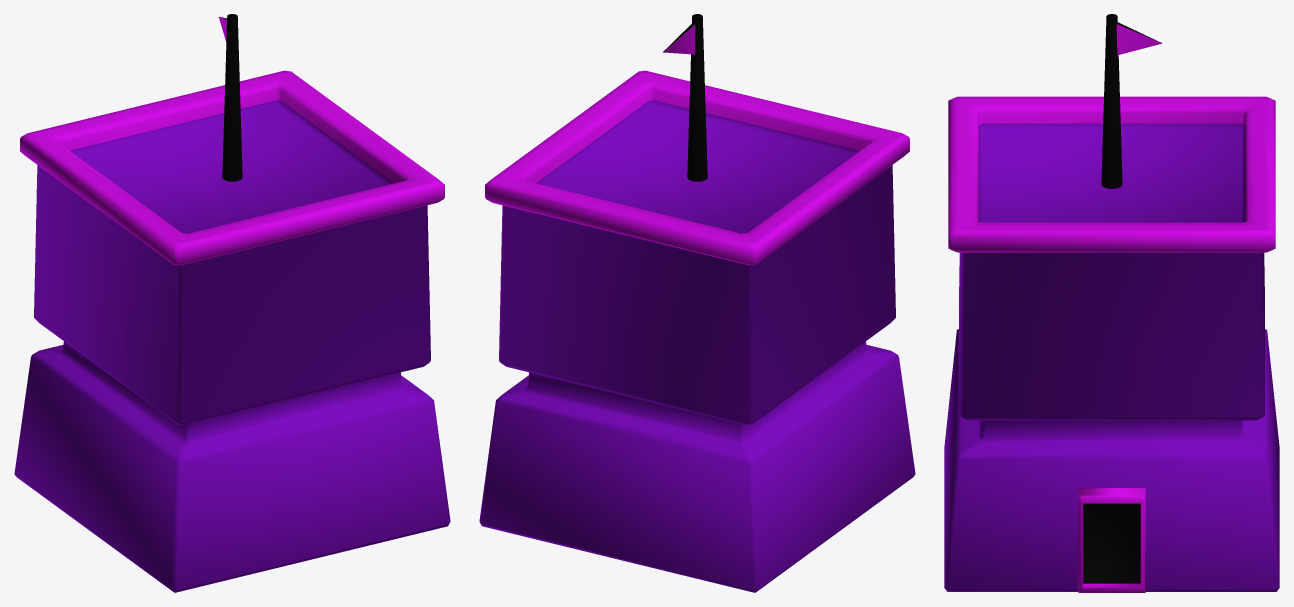
File: castle.fbx
The picture shows the model from 3 angles, left to right: view 1: azimuth 30°, elevation 25°; view 2: azimuth 150°, elevation 25°; view 3: azimuth 270°, elevation 25°; orthographic projection. The views are drawn at different scales.
Visible parts, largest first — view 1: Cube, Cylinder; view 2: Cube, Cylinder; view 3: Cube, Cube.001, Cylinder.
Boxes of the visible parts, left/top/right/bottom form: Cube: left=14, top=70, right=450, bottom=592; Cylinder: left=219, top=14, right=242, bottom=181; Cube: left=479, top=70, right=915, bottom=592; Cylinder: left=663, top=14, right=707, bottom=181; Cube: left=944, top=96, right=1279, bottom=591; Cube.001: left=1078, top=488, right=1145, bottom=592; Cylinder: left=1101, top=14, right=1162, bottom=188.
Bounding box in the file's own units: 383 × 617 × 371.
